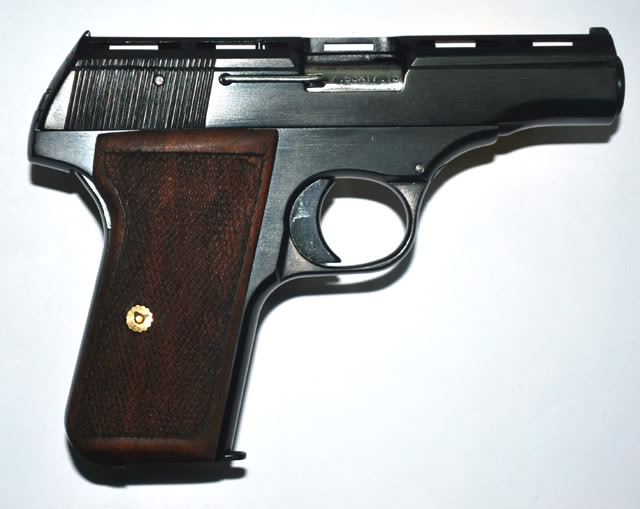gun: (25, 27, 631, 485)
